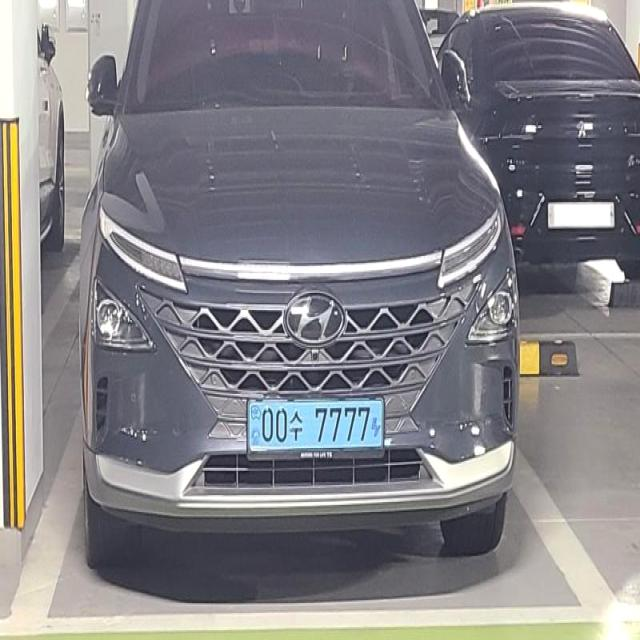EV_plate: (246, 397, 388, 462)
car: (79, 0, 518, 573)
illegal_plate: (545, 199, 617, 233)
